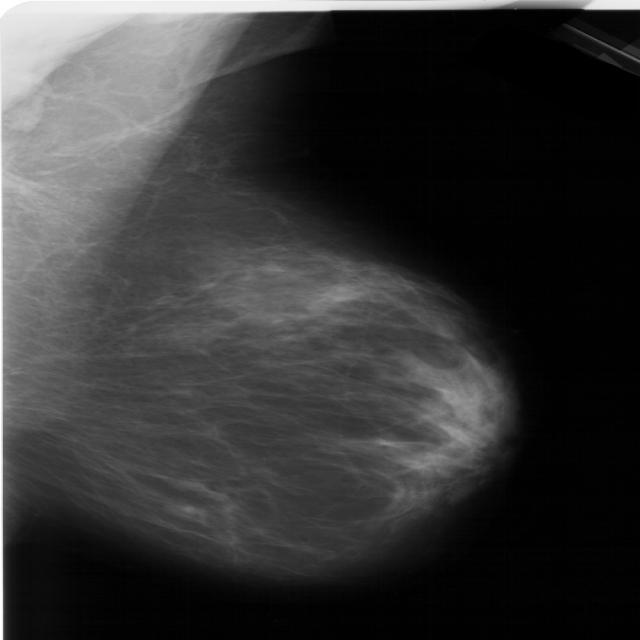tumour: (174, 502, 198, 517)
